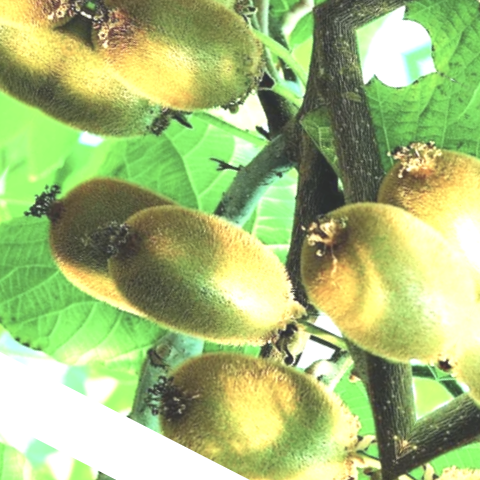kiwi: (72, 157, 339, 399), (103, 290, 391, 480), (258, 174, 480, 414), (68, 0, 292, 151)
